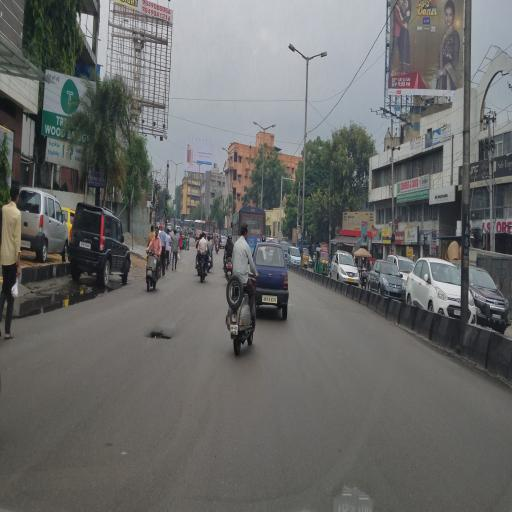street_light_0: (308, 42, 334, 74), (280, 39, 306, 71), (247, 117, 263, 139), (262, 119, 278, 140)
